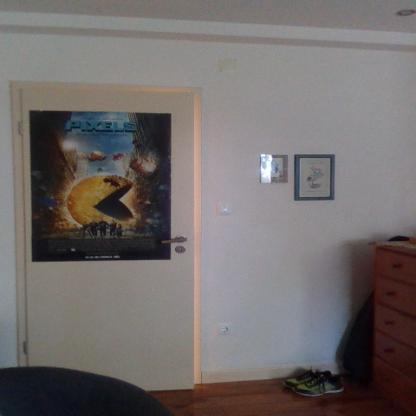door: (21, 88, 195, 390)
hinged: (16, 121, 24, 136), (21, 340, 28, 354)
lever: (159, 235, 189, 246)
